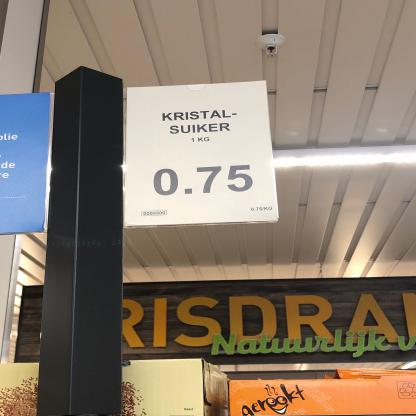prtg: (124, 80, 280, 229)
